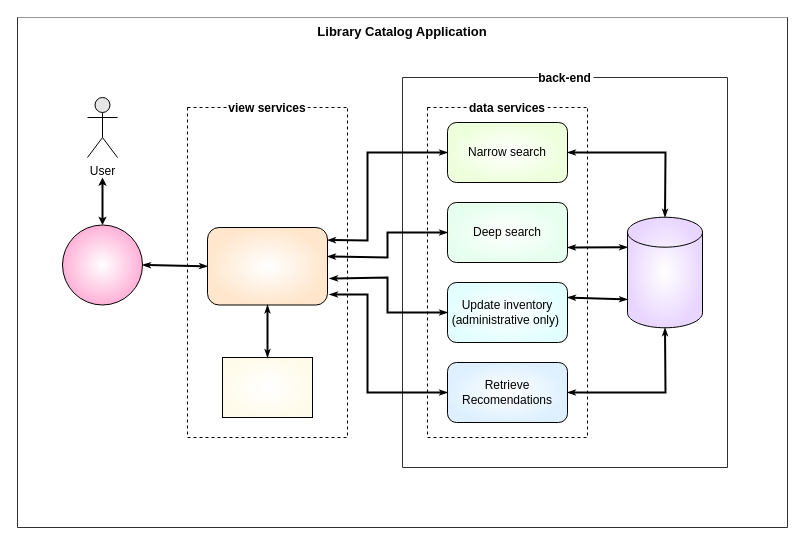
Image size: 805x545. Some labels were removed from this diagram. Here are the shapes that lost their labels. From the top down, the centre of each, then its label:
At (x=102, y=264): "Web/mobile app UI".
At (x=267, y=265): "App Server (API gateway)".
At (x=664, y=272): "Library catalog database".
At (x=267, y=387): "File system (user data, search history)".
